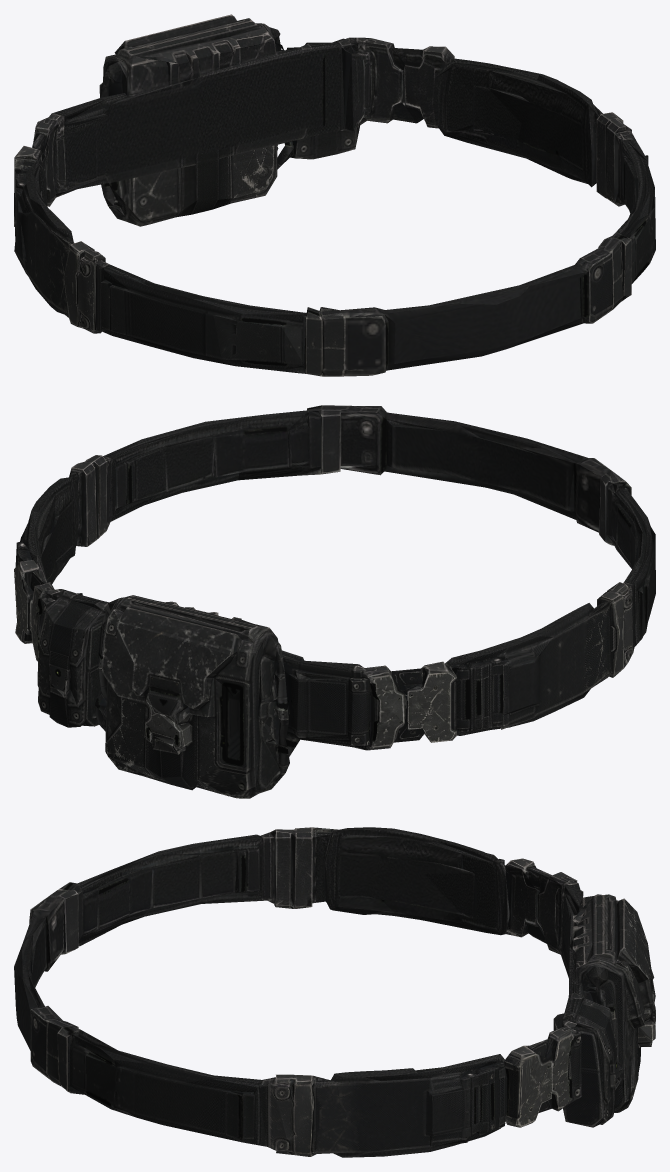
File: belt.glb
3 renders of one model, top to bottom at view 1: azimuth 30°, elevation 25°; view 2: azimuth 150°, elevation 25°; view 3: azimuth 270°, elevation 25°, orthographic. The views are drawn at different scales.
Parts seen in each view (by area): view 1: belt; view 2: belt; view 3: belt.
Boxes of the visible parts, <box> form: belt: <box>14,14,655,376</box>; belt: <box>14,405,655,798</box>; belt: <box>14,827,655,1157</box>.
Size of the model in its own units: 0.42 by 0.1227 by 0.4372.
1 material, 1 textured.
